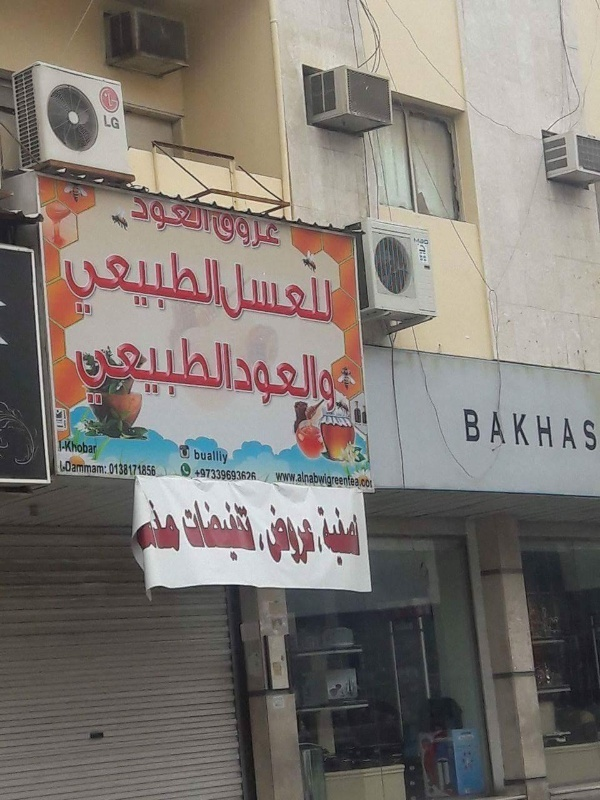text: (81, 334, 96, 421), (97, 334, 112, 421), (113, 334, 128, 421), (129, 334, 144, 421), (145, 334, 160, 421), (161, 334, 176, 421), (177, 334, 192, 421), (193, 334, 208, 421), (209, 334, 224, 421), (225, 334, 240, 421), (241, 334, 256, 421), (257, 334, 272, 421), (273, 334, 288, 421), (289, 334, 304, 421), (305, 334, 320, 421), (321, 334, 336, 421), (65, 246, 80, 324), (81, 246, 96, 324), (97, 246, 112, 324), (113, 246, 128, 324), (129, 246, 144, 324), (145, 246, 160, 324), (161, 246, 176, 324), (177, 246, 192, 324), (193, 246, 208, 324), (209, 246, 224, 324), (225, 246, 240, 324), (241, 246, 256, 324), (257, 246, 272, 324), (273, 246, 288, 324), (289, 246, 304, 324), (305, 246, 320, 324), (321, 246, 335, 324), (241, 500, 257, 565), (193, 500, 208, 565), (209, 500, 224, 565), (225, 500, 240, 565), (273, 505, 288, 567), (289, 505, 304, 567), (321, 506, 336, 567), (337, 506, 352, 567), (145, 501, 160, 553), (161, 501, 176, 553), (305, 505, 317, 567), (72, 334, 80, 421), (145, 194, 160, 240), (161, 194, 176, 240), (177, 194, 192, 240), (193, 194, 208, 240), (465, 408, 480, 452), (481, 408, 496, 452), (497, 408, 512, 452), (513, 408, 528, 452), (529, 408, 544, 452), (545, 408, 560, 452), (561, 408, 576, 452), (577, 408, 592, 452), (182, 500, 192, 565), (131, 194, 144, 240), (225, 210, 240, 248), (241, 210, 256, 248), (257, 210, 272, 248), (353, 506, 361, 567), (212, 210, 224, 248), (136, 501, 144, 553), (273, 469, 288, 490), (289, 469, 304, 490), (305, 469, 320, 490), (321, 469, 336, 490), (337, 469, 352, 490), (353, 469, 368, 490), (267, 505, 272, 567), (273, 210, 281, 248), (258, 531, 272, 552), (193, 448, 208, 466), (209, 448, 224, 466), (593, 408, 599, 452), (61, 246, 64, 324), (209, 467, 224, 482), (225, 467, 240, 482), (241, 467, 256, 482), (65, 459, 80, 474), (81, 459, 96, 474), (113, 462, 128, 477), (129, 462, 144, 477), (65, 440, 80, 455), (81, 440, 96, 455), (195, 467, 208, 482), (145, 462, 158, 477), (337, 334, 339, 421), (97, 459, 108, 474), (177, 501, 180, 553), (103, 115, 112, 130), (318, 506, 320, 567), (263, 471, 272, 484), (369, 469, 374, 490), (113, 115, 120, 130), (209, 194, 211, 240), (462, 408, 464, 452), (59, 459, 64, 474), (59, 440, 64, 455), (225, 448, 229, 466), (108, 462, 112, 477), (257, 467, 258, 482), (97, 440, 98, 455)
